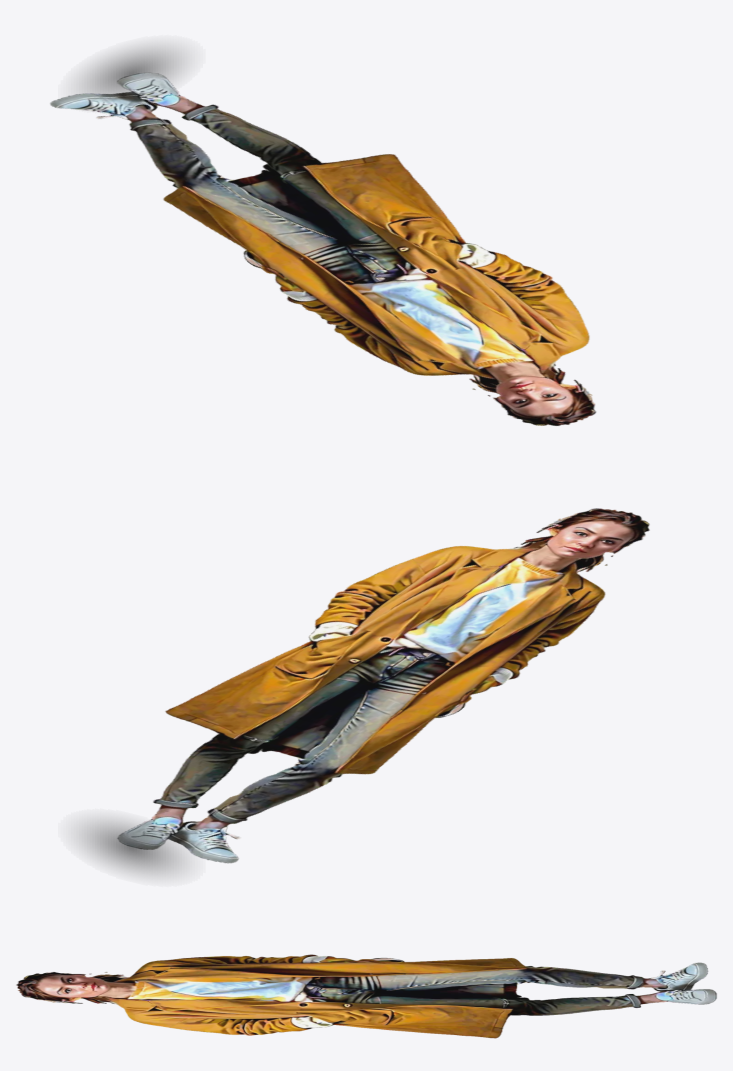
Rendered from person-f.glb.
The picture shows the model from 3 angles, top to bottom: view 1: azimuth 30°, elevation 25°; view 2: azimuth 150°, elevation 25°; view 3: azimuth 270°, elevation 25°; orthographic projection. The views are drawn at different scales.
Parts seen in each view (by area): view 1: Body, Shadow; view 2: Body, Shadow; view 3: Body.
Boxes of the visible parts, box(x1,y1,x2,y2) form: Body: box(50, 72, 595, 425); Shadow: box(81, 47, 181, 93); Body: box(117, 508, 649, 863); Shadow: box(81, 821, 181, 874); Body: box(16, 954, 716, 1038).
Bounding box in the file's own units: 1 × 0.32 × 3.48.
Materials: 2 (2 with a texture image).
